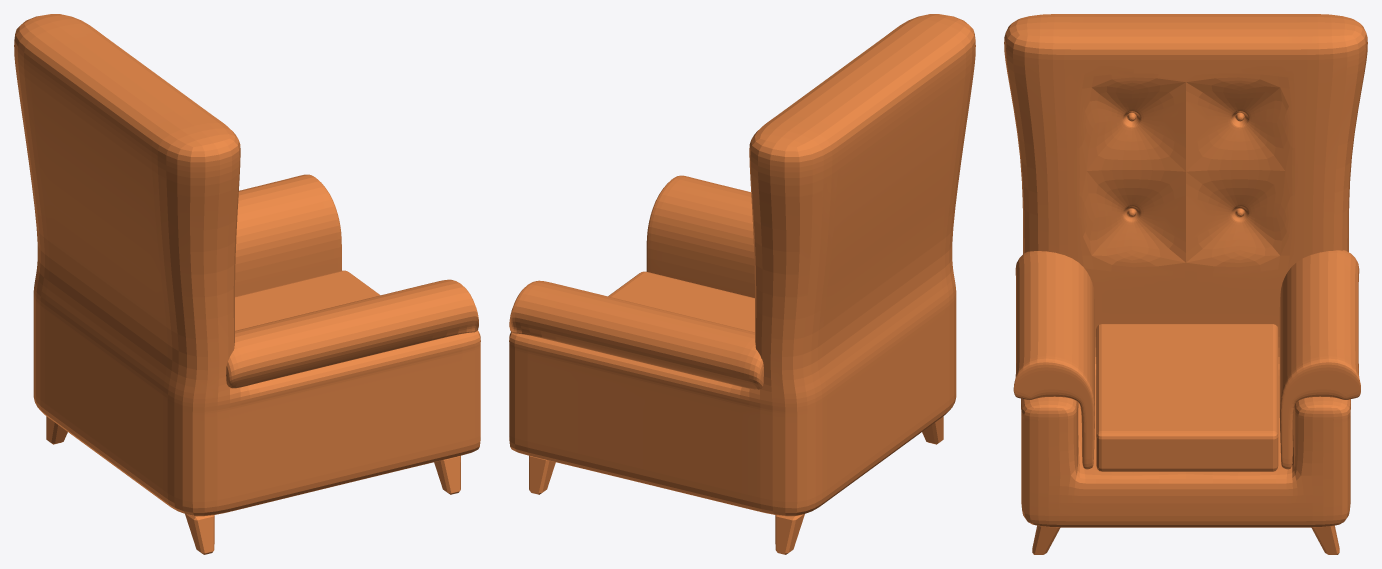
Rendered from colorChair.glb.
3 renders of one model, left to right at view 1: azimuth 30°, elevation 25°; view 2: azimuth 150°, elevation 25°; view 3: azimuth 270°, elevation 25°, orthographic. The views are drawn at different scales.
Parts seen in each view (by area): view 1: Plane; view 2: Plane; view 3: Plane.
Part boxes in pixels (x1,y1,x2,y2): Plane: (14, 14, 480, 554); Plane: (509, 14, 975, 554); Plane: (1004, 14, 1367, 554).
Bounding box in the file's own units: 61.05 × 78.62 × 62.97.
